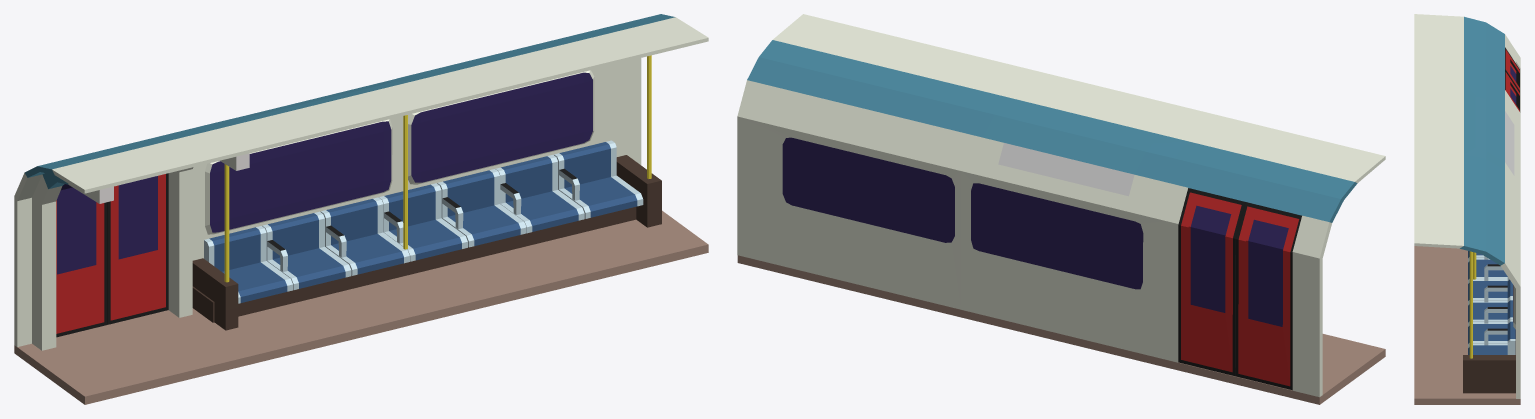
File: Train_interior.fbx
3 renders of one model, left to right at view 1: azimuth 30°, elevation 25°; view 2: azimuth 150°, elevation 25°; view 3: azimuth 270°, elevation 25°, orthographic. The views are drawn at different scales.
Visible parts, largest first — view 1: Plane, Plane.001; view 2: Plane, Plane.001; view 3: Plane, Plane.001.
Boxes of the visible parts, x1,y1,x2,y2 form: Plane: [14, 14, 708, 404]; Plane.001: [56, 173, 168, 337]; Plane: [737, 14, 1385, 404]; Plane.001: [1178, 188, 1301, 390]; Plane: [1414, 14, 1520, 404]; Plane.001: [1505, 47, 1519, 111].
Bounding box in the file's own units: 8.95 × 2.95 × 1.75.
